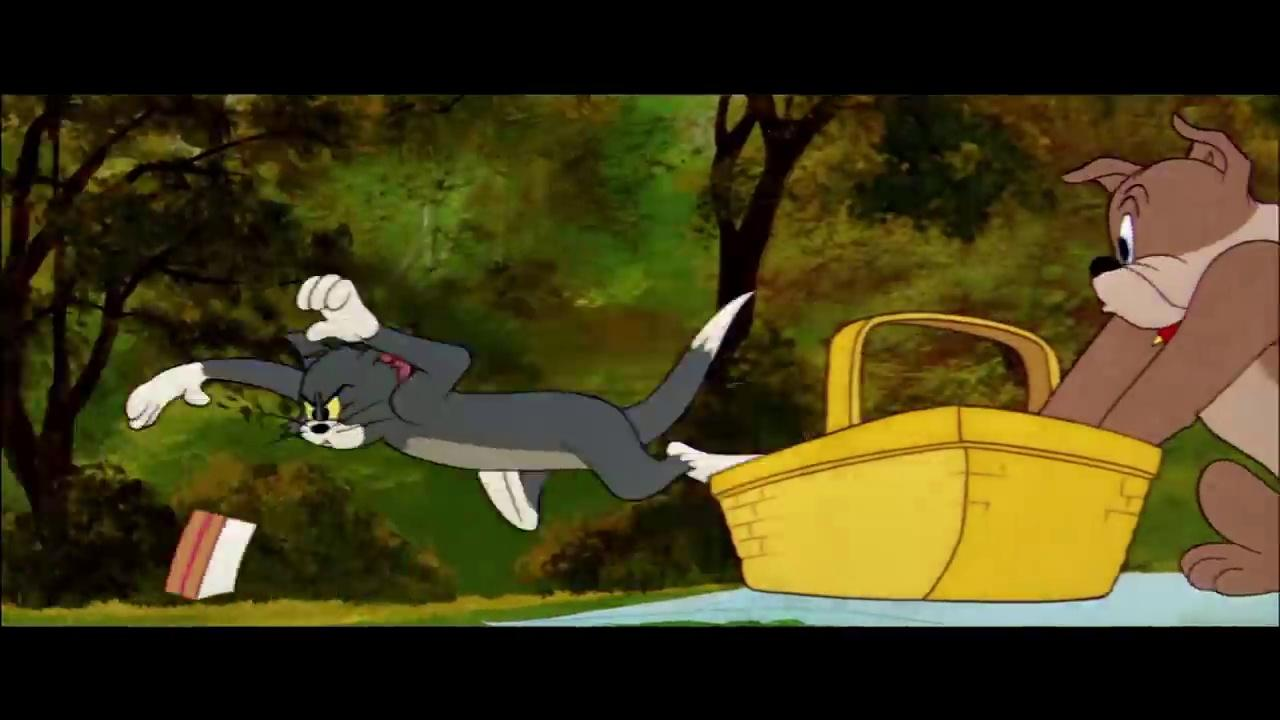Tom: (125, 272, 773, 532)
